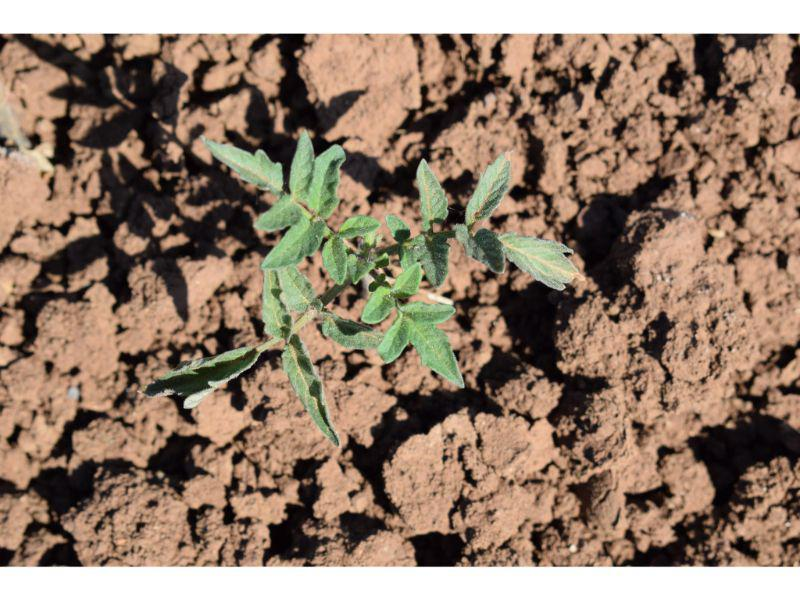tomato: (142, 132, 581, 445)
